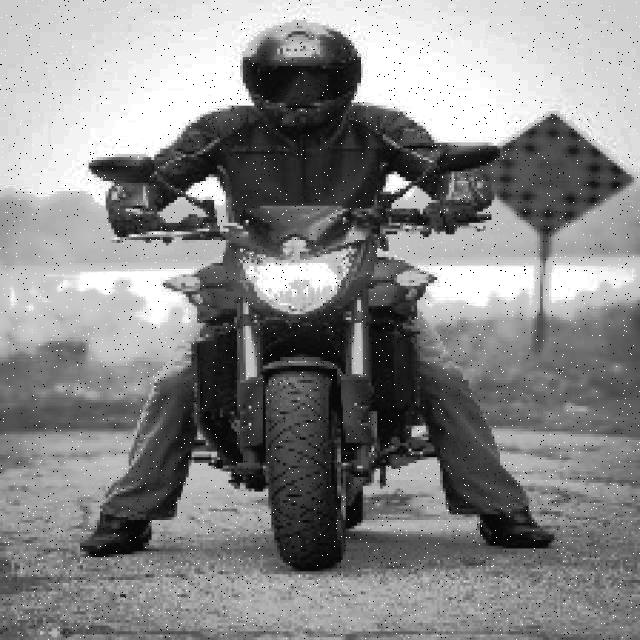Bike: (169, 200, 435, 579)
